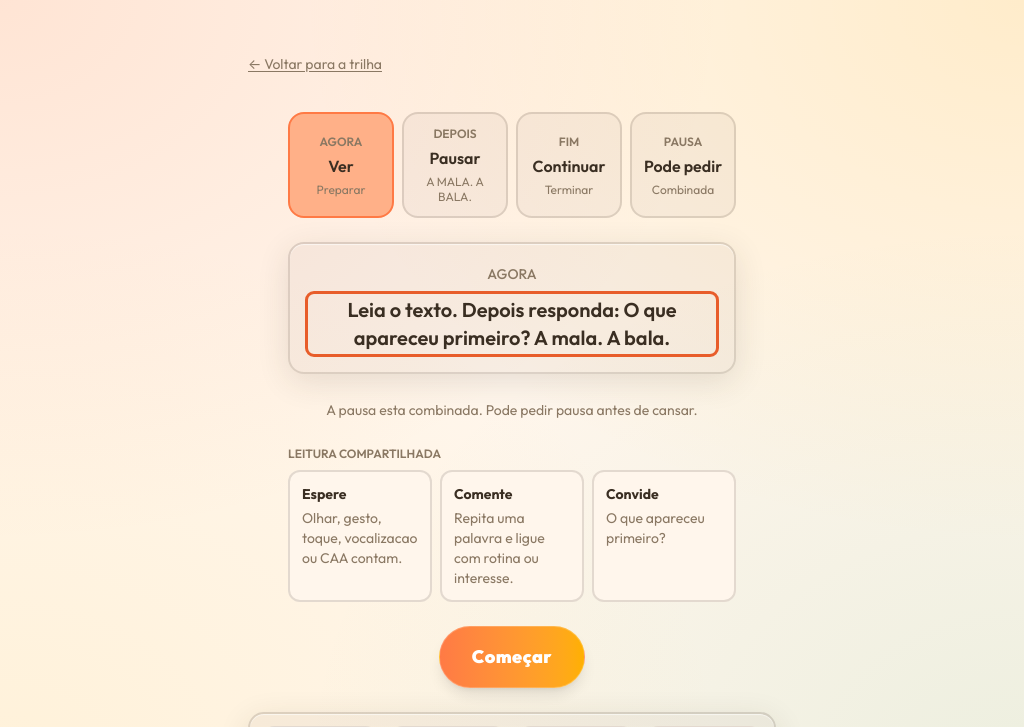
Atividade › renderiza pergunta literal de texto pelo tipo de atividade da trilha
The width and height of the screenshot is (1024, 727).
expect the text "Leia o texto. Depois responda: O que apareceu primeiro? A mala. A bala." is shown: met, box [347,297,676,350]
What coordinates should you click on to do the following:
click the button "Começar"
I would click on:
 (512, 657)
Its box is [439,626,585,688].
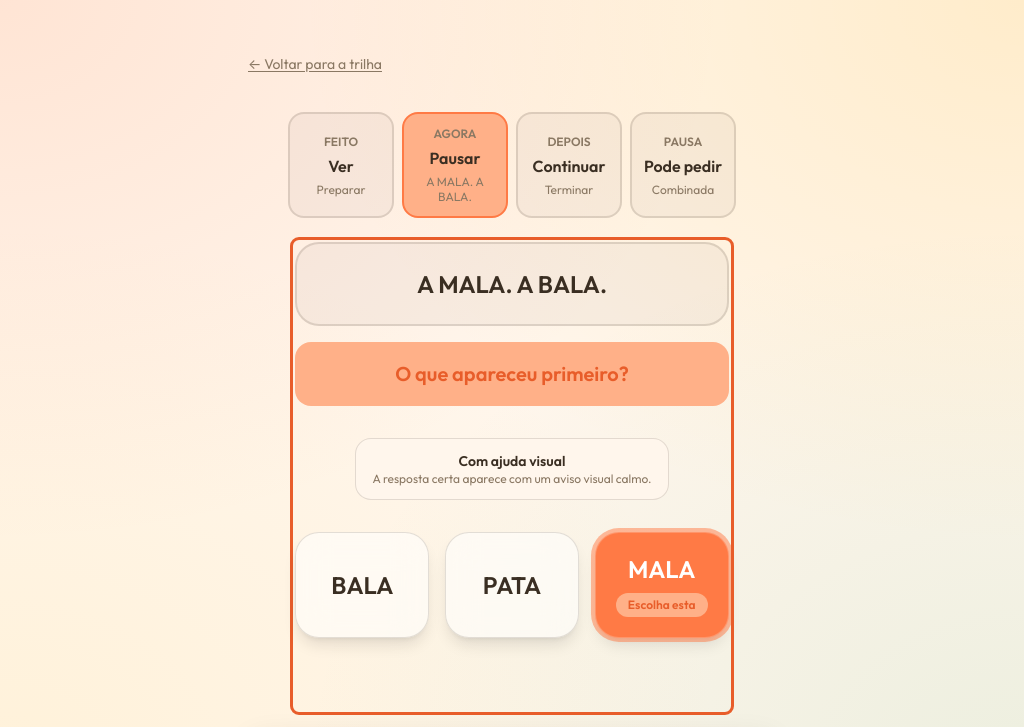
expect the text "O que apareceu primeiro?" is shown: met, box [296,342,728,406]
expect the button named "MALA. Escolha esta" is shown: met, box [595,532,728,638]
